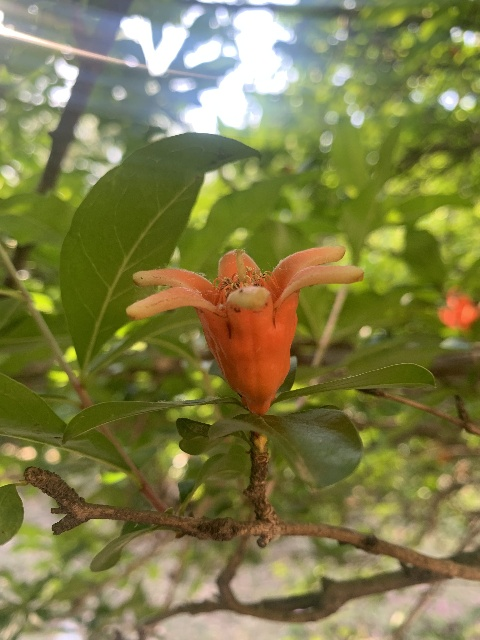flower: (123, 246, 365, 415)
